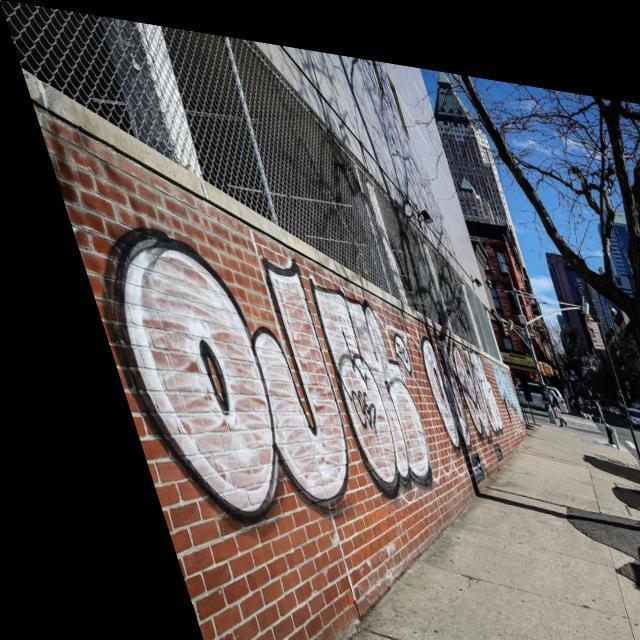-: (29, 103, 544, 564)
